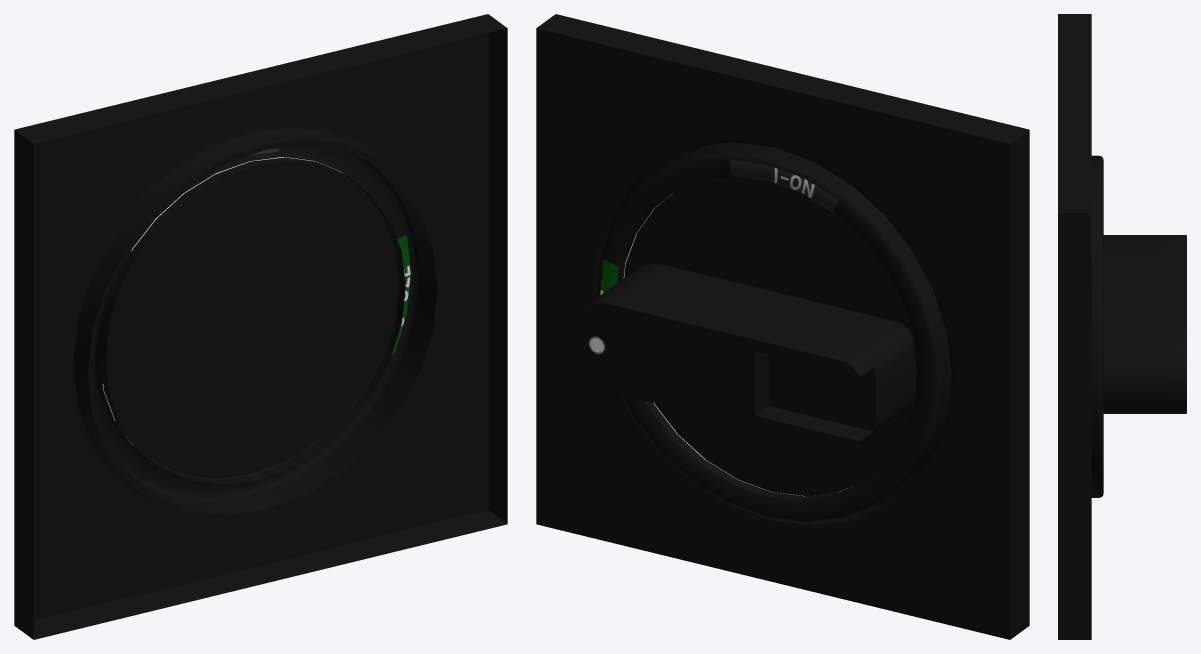
The model's file is Main_Switch.fbx.
3 renders of one model, left to right at view 1: azimuth 30°, elevation 25°; view 2: azimuth 150°, elevation 25°; view 3: azimuth 270°, elevation 25°, orthographic. The views are drawn at different scales.
Parts seen in each view (by area): view 1: Main_Switch_02, Main_Switch_01; view 2: Main_Switch_02, Main_Switch_01; view 3: Main_Switch_02, Main_Switch_01.
Boxes of the visible parts, <box> form: Main_Switch_02: <box>14,14,507,639</box>; Main_Switch_01: <box>99,157,405,484</box>; Main_Switch_02: <box>536,14,1029,639</box>; Main_Switch_01: <box>568,177,917,496</box>; Main_Switch_02: <box>1058,14,1103,639</box>; Main_Switch_01: <box>1103,235,1186,413</box>.
Size of the model in its own units: 9.7 by 9.7 by 2.65.
2 materials, 2 textured.
